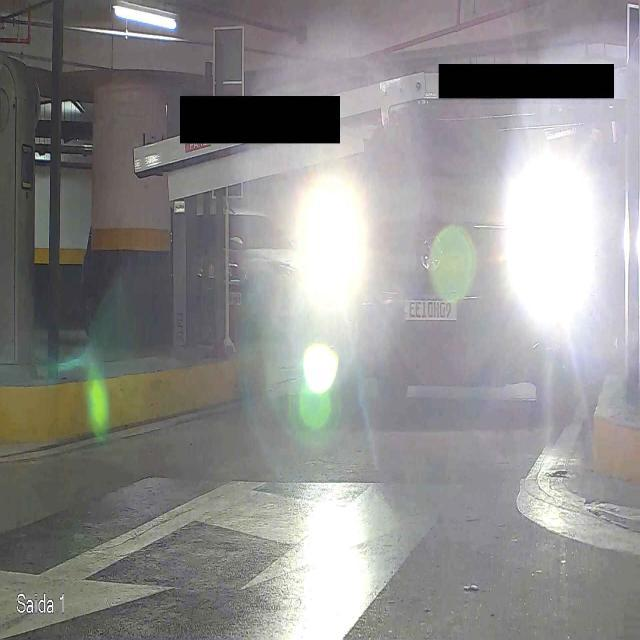mercosul_plate: (402, 294, 459, 321)
